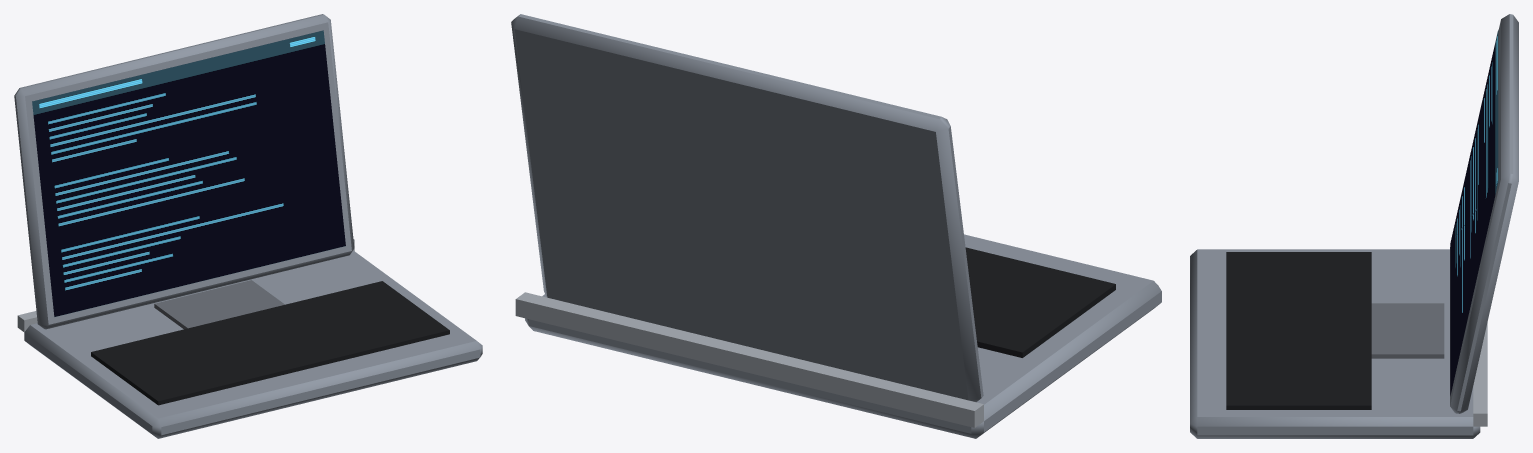
File: terminal_laptop_console.glb
The picture shows the model from 3 angles, left to right: view 1: azimuth 30°, elevation 25°; view 2: azimuth 150°, elevation 25°; view 3: azimuth 270°, elevation 25°; orthographic projection. The views are drawn at different scales.
Parts seen in each view (by area): view 1: terminal_laptop_console; view 2: terminal_laptop_console; view 3: terminal_laptop_console.
Part boxes in pixels (x1,y1,x2,y2): terminal_laptop_console: (14,14,482,438); terminal_laptop_console: (511,14,1161,438); terminal_laptop_console: (1190,14,1518,438).
Bounding box in the file's own units: 0.34 × 0.2384 × 0.2717.
5 materials, 1 textured.
